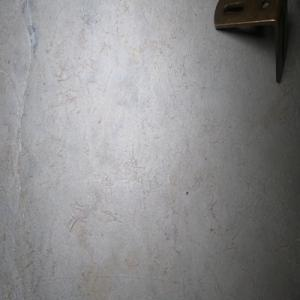MetalPart: (212, 0, 289, 85)
